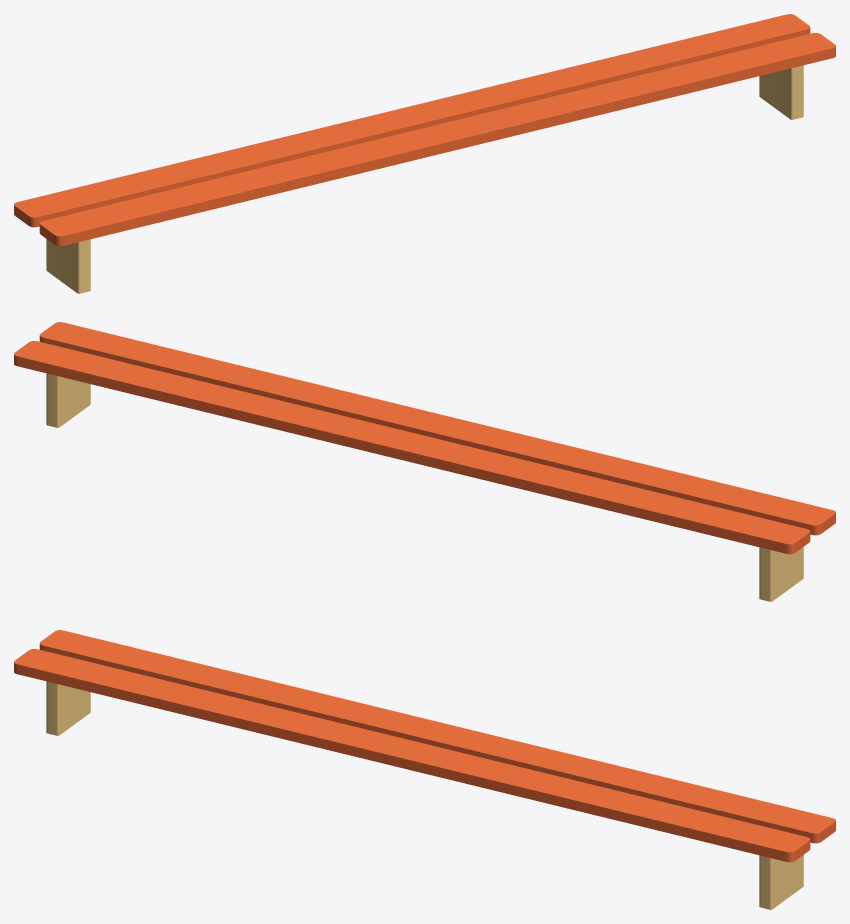
File: Bench Basketball A.fbx
The picture shows the model from 3 angles, top to bottom: view 1: azimuth 30°, elevation 25°; view 2: azimuth 150°, elevation 25°; view 3: azimuth 330°, elevation 25°; orthographic projection.
Visible parts, largest first — view 1: Bench Basketball A.001, Bench Basketball A.003, Bench Basketball A.002; view 2: Bench Basketball A.001, Bench Basketball A.003, Bench Basketball A.002; view 3: Bench Basketball A.003, Bench Basketball A.001, Bench Basketball A.002.
Boxes of the visible parts, x1,y1,x2,y2 form: Bench Basketball A.001: [14, 139, 320, 293]; Bench Basketball A.003: [529, 14, 835, 120]; Bench Basketball A.002: [274, 77, 575, 182]; Bench Basketball A.001: [529, 447, 835, 601]; Bench Basketball A.003: [14, 322, 320, 428]; Bench Basketball A.002: [274, 385, 575, 490]; Bench Basketball A.003: [529, 755, 835, 909]; Bench Basketball A.001: [14, 630, 320, 736]; Bench Basketball A.002: [274, 693, 575, 798].
Bounding box in the file's own units: 614 × 51.45 × 63.1.
